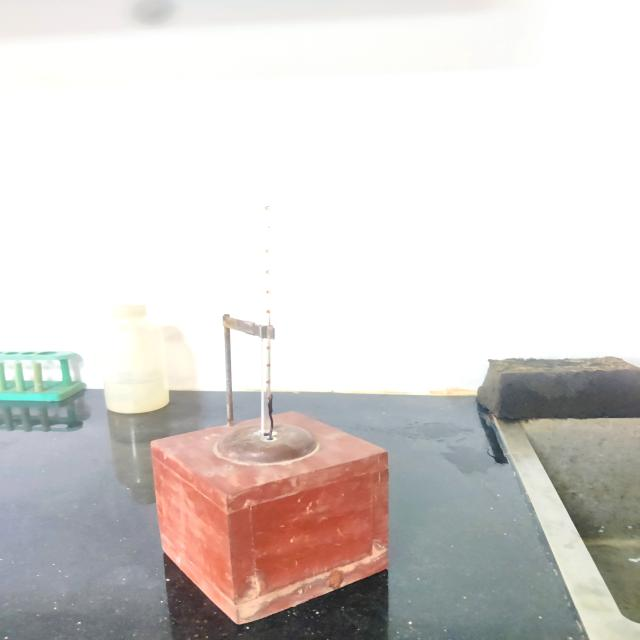Calorimeter: (115, 128, 440, 640)
